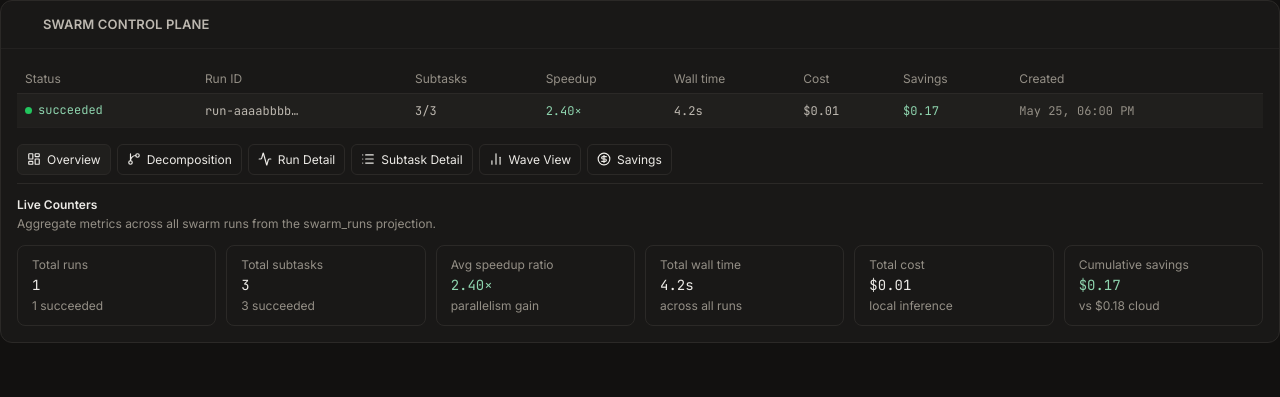
Scenario: SwarmControlPlane › shows savings bar in savings tab
Click the tab "Savings".
click(629, 159)  # box [587,144,672,175]
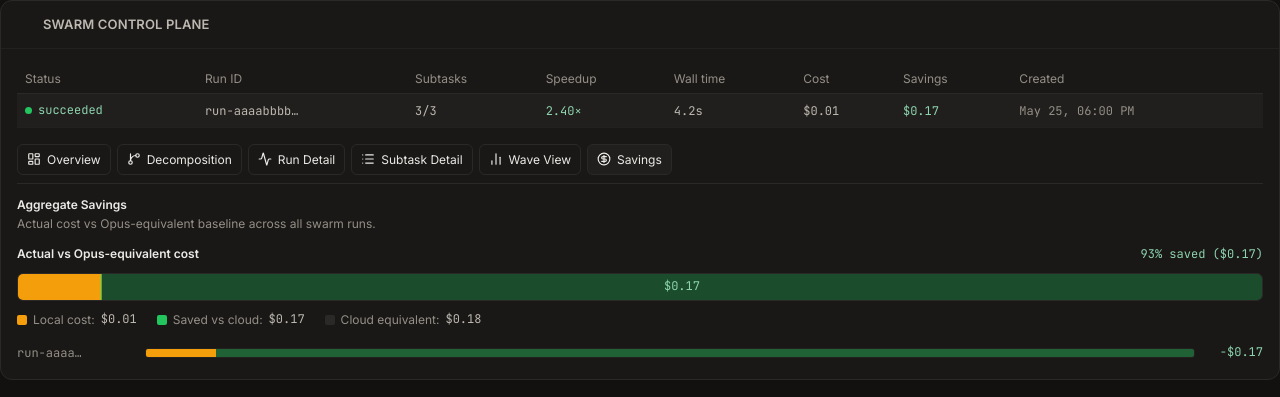
Result: the text "Actual vs Opus-equivalent cost" is shown at [17,245,199,262]
Result: the text "93% saved ($0.17)" is shown at [1141,246,1263,263]
